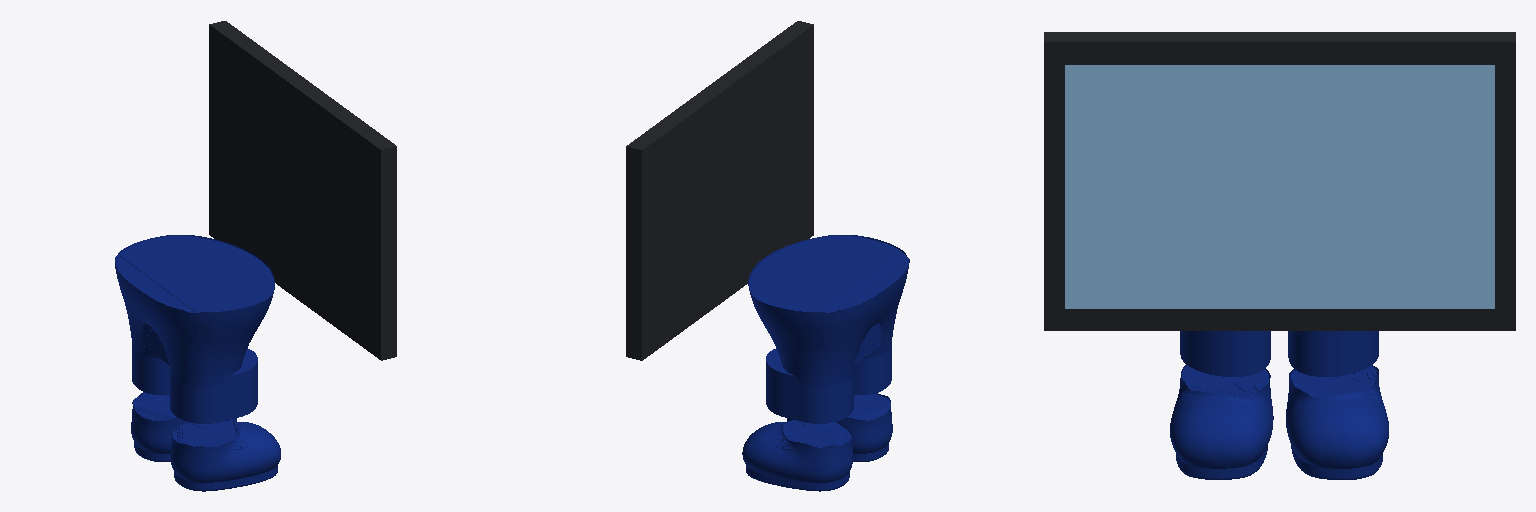
The robot description file, URDF, robot "haetburi":
<?xml version="1.0"?>
<!-- Haetburi biped (v15_scs0009) - generated by tools/build_model.py, do not edit by hand -->
<robot name="haetburi">
  <mujoco>
    <compiler meshdir="." balanceinertia="true" discardvisual="false" strippath="false" fusestatic="false"/>
  </mujoco>
  <material name="display"><color rgba="0.18 0.19 0.21 1"/></material>
  <material name="screen"><color rgba="0.62 0.80 0.95 1"/></material>
  <material name="shell"><color rgba="0.106 0.216 0.541 1"/></material>
  <material name="motor"><color rgba="0.15 0.15 0.17 1"/></material>
  <material name="foot"><color rgba="0.25 0.25 0.28 1"/></material>
  <link name="world"/>
  <joint name="floating_base" type="floating">
    <parent link="world"/><child link="pelvis"/>
    <origin xyz="0 0 0" rpy="0 0 0"/>
  </joint>
  <link name="pelvis">
    <inertial>
      <origin xyz="-0.00933727 -4.21098e-05 0.0390781" rpy="0 0 0"/>
      <mass value="0.20905"/>
      <inertia ixx="0.000154605" ixy="9.52756e-08" ixz="6.57686e-05" iyy="0.000213799" iyz="-1.50073e-07" izz="0.000166451"/>
    </inertial>
    <visual><origin xyz="0 0 0" rpy="0 0 0"/><geometry><mesh filename="meshes/pelvis.stl"/></geometry><material name="shell"/></visual>
    <visual><origin xyz="0.00560222 0.0205833 0.024625" rpy="0 0 0"/><geometry><box size="0.0232 0.0121 0.02525"/></geometry><material name="motor"/></visual>
    <visual><origin xyz="0.00559778 -0.0208373 0.024625" rpy="0 0 0"/><geometry><box size="0.0232 0.0121 0.02525"/></geometry><material name="motor"/></visual>
    <collision><origin xyz="0.00627806 -0.000122995 0.02196" rpy="0 0 0"/><geometry><box size="0.075271 0.0999554 0.04392"/></geometry></collision>
  </link>
  <link name="torso">
    <inertial>
      <origin xyz="0.0182446 8.71177e-05 0.108889" rpy="0 0 0"/>
      <mass value="1.28086"/>
      <inertia ixx="0.014821" ixy="-4.31796e-05" ixz="0.00268763" iyy="0.0149095" iyz="-4.16136e-05" izz="0.0081113"/>
    </inertial>
    <visual><origin xyz="0 0 0" rpy="0 0 0"/><geometry><mesh filename="meshes/torso.stl"/></geometry><material name="shell"/></visual>
    <visual><origin xyz="0.0706342 0 0.0329667" rpy="0 0 0"/><geometry><box size="0.009936 0.181872 0.122947"/></geometry><material name="display"/></visual>
    <visual><origin xyz="0.0756022 0 0.0329667" rpy="0 0 0"/><geometry><box size="0.0004 0.165888 0.10368"/></geometry><material name="screen"/></visual>
    <collision><origin xyz="-0.0327951 -1.52667e-06 0.0241949" rpy="0 0 0"/><geometry><box size="0.153936 0.10438 0.102792"/></geometry></collision>
    <collision><origin xyz="0.0400464 0.0808516 0.0487546" rpy="0 0 0"/><geometry><sphere radius="0.0584846"/></geometry></collision>
    <collision><origin xyz="0.0403233 -0.0809756 0.0487546" rpy="0 0 0"/><geometry><sphere radius="0.0584284"/></geometry></collision>
    <collision><origin xyz="-0.0050265 0.000257059 0.0987022" rpy="0 0 0"/><geometry><sphere radius="0.100313"/></geometry></collision>
    <collision><origin xyz="-0.00875885 -0.000118183 0.144894" rpy="0 0 0"/><geometry><sphere radius="0.115731"/></geometry></collision>
    <collision><origin xyz="-0.0133372 -0.000195057 0.191093" rpy="0 0 0"/><geometry><sphere radius="0.114391"/></geometry></collision>
    <collision><origin xyz="-0.010463 0.000823985 0.23729" rpy="0 0 0"/><geometry><sphere radius="0.0994669"/></geometry></collision>
    <collision><origin xyz="-0.00619129 0.00652207 0.283516" rpy="0 0 0"/><geometry><sphere radius="0.0708969"/></geometry></collision>
    <collision><origin xyz="-0.0113464 -0.00215569 0.329701" rpy="0 0 0"/><geometry><sphere radius="0.0411436"/></geometry></collision>
    <collision><origin xyz="0.0706342 0 0.0329667" rpy="0 0 0"/><geometry><box size="0.009936 0.181872 0.122947"/></geometry></collision>
  </link>
  <link name="leg_l">
    <inertial>
      <origin xyz="0.00537179 -0.000611211 -0.0157333" rpy="0 0 0"/>
      <mass value="0.0525591"/>
      <inertia ixx="1.13546e-05" ixy="2.33672e-07" ixz="-8.44778e-07" iyy="1.20885e-05" iyz="1.10439e-07" izz="1.28308e-05"/>
    </inertial>
    <visual><origin xyz="0 0 0" rpy="0 0 0"/><geometry><mesh filename="meshes/leg_l.stl"/></geometry><material name="shell"/></visual>
    <visual><origin xyz="0.0119426 -0.0018 -0.0126" rpy="0 0 0"/><geometry><box size="0.0121 0.02525 0.0232"/></geometry><material name="motor"/></visual>
    <collision><origin xyz="0.00497501 -6.56491e-06 -0.01285" rpy="0 0 0"/><geometry><box size="0.0492151 0.0359726 0.0257"/></geometry></collision>
  </link>
  <link name="ankle_l">
    <inertial>
      <origin xyz="-0.000976941 -0.00125795 -0.019885" rpy="0 0 0"/>
      <mass value="0.0115385"/>
      <inertia ixx="3.05928e-06" ixy="0" ixz="0" iyy="1.90544e-06" iyz="0" izz="1.92308e-06"/>
    </inertial>
  </link>
  <link name="foot_l">
    <inertial>
      <origin xyz="0.000300359 0.00412668 -0.00138431" rpy="0 0 0"/>
      <mass value="0.0527423"/>
      <inertia ixx="8.1169e-06" ixy="-3.75028e-07" ixz="-9.89015e-08" iyy="1.16309e-05" iyz="-6.06801e-07" izz="1.33479e-05"/>
    </inertial>
    <visual><origin xyz="0 0 0" rpy="0 0 0"/><geometry><mesh filename="meshes/foot_l.stl"/></geometry><material name="shell"/></visual>
    <visual><origin xyz="0 0.0056 4.44089e-19" rpy="0 0 0"/><geometry><box size="0.02525 0.0232 0.0121"/></geometry><material name="motor"/></visual>
    <collision><origin xyz="0 0 0" rpy="0 0 0"/><geometry><mesh filename="meshes/foot_l.stl"/></geometry></collision>
  </link>
  <link name="leg_r">
    <inertial>
      <origin xyz="0.00536218 0.000619383 -0.0157332" rpy="0 0 0"/>
      <mass value="0.0525548"/>
      <inertia ixx="1.13665e-05" ixy="-2.49057e-07" ixz="-8.4258e-07" iyy="1.20701e-05" iyz="-1.12078e-07" izz="1.28246e-05"/>
    </inertial>
    <visual><origin xyz="0 0 0" rpy="0 0 0"/><geometry><mesh filename="meshes/leg_r.stl"/></geometry><material name="shell"/></visual>
    <visual><origin xyz="0.0119324 0.0018 -0.0126" rpy="0 0 0"/><geometry><box size="0.0121 0.02525 0.0232"/></geometry><material name="motor"/></visual>
    <collision><origin xyz="0.00497869 1.04074e-05 -0.01285" rpy="0 0 0"/><geometry><box size="0.0491874 0.0360417 0.0257"/></geometry></collision>
  </link>
  <link name="ankle_r">
    <inertial>
      <origin xyz="-0.000921485 0.00121209 -0.019885" rpy="0 0 0"/>
      <mass value="0.0115385"/>
      <inertia ixx="3.05928e-06" ixy="0" ixz="0" iyy="1.90544e-06" iyz="0" izz="1.92308e-06"/>
    </inertial>
  </link>
  <link name="foot_r">
    <inertial>
      <origin xyz="0.000214519 -0.00409037 -0.00141697" rpy="0 0 0"/>
      <mass value="0.0526446"/>
      <inertia ixx="8.05626e-06" ixy="3.87305e-07" ixz="-6.58039e-08" iyy="1.15704e-05" iyz="6.00204e-07" izz="1.32948e-05"/>
    </inertial>
    <visual><origin xyz="0 0 0" rpy="0 0 0"/><geometry><mesh filename="meshes/foot_r.stl"/></geometry><material name="shell"/></visual>
    <visual><origin xyz="0 -0.0056 4.44089e-19" rpy="0 0 0"/><geometry><box size="0.02525 0.0232 0.0121"/></geometry><material name="motor"/></visual>
    <collision><origin xyz="0 0 0" rpy="0 0 0"/><geometry><mesh filename="meshes/foot_r.stl"/></geometry></collision>
  </link>
  <joint name="waist_fixed" type="fixed">
    <parent link="pelvis"/><child link="torso"/>
    <origin xyz="0 0 0.04392" rpy="0 0 0"/>
  </joint>
  <joint name="hip_yaw_l" type="revolute">
    <parent link="pelvis"/><child link="leg_l"/>
    <origin xyz="2.21702e-06 0.0205833 0" rpy="0 0 0"/>
    <axis xyz="0 0 1"/>
    <limit lower="-0.523599" upper="0.523599" effort="0.226" velocity="10.5"/>
    <dynamics damping="0.016142857142857146" friction="0.006457142857142858"/>
  </joint>
  <joint name="hip_yaw_r" type="revolute">
    <parent link="pelvis"/><child link="leg_r"/>
    <origin xyz="-2.21702e-06 -0.0208373 0" rpy="0 0 0"/>
    <axis xyz="0 0 1"/>
    <limit lower="-0.523599" upper="0.523599" effort="0.226" velocity="10.5"/>
    <dynamics damping="0.016142857142857146" friction="0.006457142857142858"/>
  </joint>
  <joint name="ankle_pitch_l" type="revolute">
    <parent link="leg_l"/><child link="ankle_l"/>
    <origin xyz="0.0119426 -0.0018 -0.0182" rpy="0 0 0"/>
    <axis xyz="0 1 0"/>
    <limit lower="-0.261799" upper="0.261799" effort="0.226" velocity="10.5"/>
    <dynamics damping="0.016142857142857146" friction="0.006457142857142858"/>
  </joint>
  <joint name="ankle_pitch_r" type="revolute">
    <parent link="leg_r"/><child link="ankle_r"/>
    <origin xyz="0.0119324 0.0018 -0.0182" rpy="0 0 0"/>
    <axis xyz="0 1 0"/>
    <limit lower="-0.261799" upper="0.261799" effort="0.226" velocity="10.5"/>
    <dynamics damping="0.016142857142857146" friction="0.006457142857142858"/>
  </joint>
  <joint name="ankle_roll_l" type="revolute">
    <parent link="ankle_l"/><child link="foot_l"/>
    <origin xyz="-0.00195388 -0.00251589 -0.03977" rpy="0 0 0"/>
    <axis xyz="1 0 0"/>
    <limit lower="-0.261799" upper="0.261799" effort="0.226" velocity="10.5"/>
    <dynamics damping="0.016142857142857146" friction="0.006457142857142858"/>
  </joint>
  <joint name="ankle_roll_r" type="revolute">
    <parent link="ankle_r"/><child link="foot_r"/>
    <origin xyz="-0.00184297 0.00242419 -0.03977" rpy="0 0 0"/>
    <axis xyz="1 0 0"/>
    <limit lower="-0.261799" upper="0.261799" effort="0.226" velocity="10.5"/>
    <dynamics damping="0.016142857142857146" friction="0.006457142857142858"/>
  </joint>
</robot>

--- Render facts (derived) ---
The picture shows the robot from 3 angles, left to right: view 1: azimuth 30°, elevation 25°; view 2: azimuth 150°, elevation 25°; view 3: azimuth 270°, elevation 25°; orthographic projection.
Model haetburi with 9 links and 8 joints (6 revolute, 1 fixed, 1 floating), rooted at world, posed every joint at zero.
Links seen in each view (by area): view 1: torso, pelvis, foot_r, leg_r, foot_l, leg_l; view 2: torso, pelvis, foot_l, leg_l, foot_r, leg_r; view 3: torso, foot_r, foot_l, leg_l, leg_r.
Link boxes in pixels (<box>): torso: <box>209,21,396,360</box>; pelvis: <box>115,235,274,379</box>; foot_r: <box>171,420,280,491</box>; leg_r: <box>169,348,257,423</box>; foot_l: <box>131,392,236,461</box>; leg_l: <box>132,340,169,394</box>; torso: <box>626,21,813,360</box>; pelvis: <box>748,235,909,379</box>; foot_l: <box>742,420,852,491</box>; leg_l: <box>766,349,854,423</box>; foot_r: <box>787,393,892,461</box>; leg_r: <box>854,340,891,394</box>; torso: <box>1044,32,1515,330</box>; foot_r: <box>1170,365,1273,479</box>; foot_l: <box>1286,365,1388,479</box>; leg_l: <box>1288,331,1378,376</box>; leg_r: <box>1180,331,1270,376</box>.
Size in the robot's own frame: 0.1072 by 0.1819 by 0.2046 metres.
5 mesh visuals loaded from 6 distinct referenced files (5 binary STL); not drawn: 1 (reference not matched to a file when rendering).
